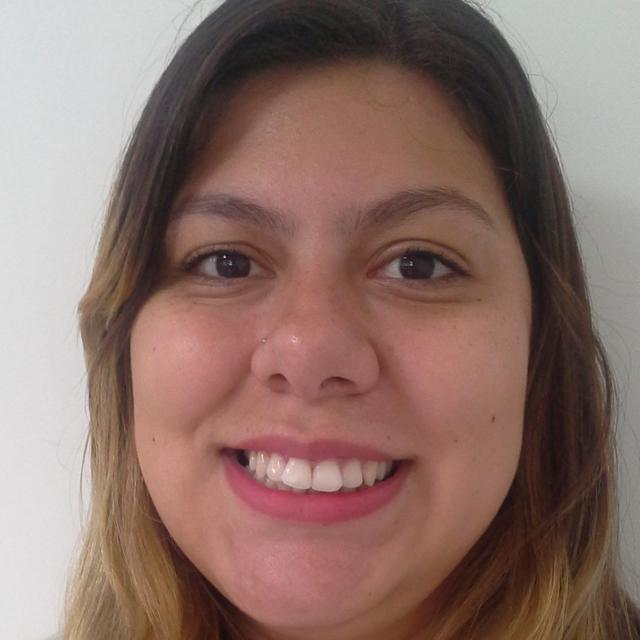Normal: (133, 70, 530, 620)
